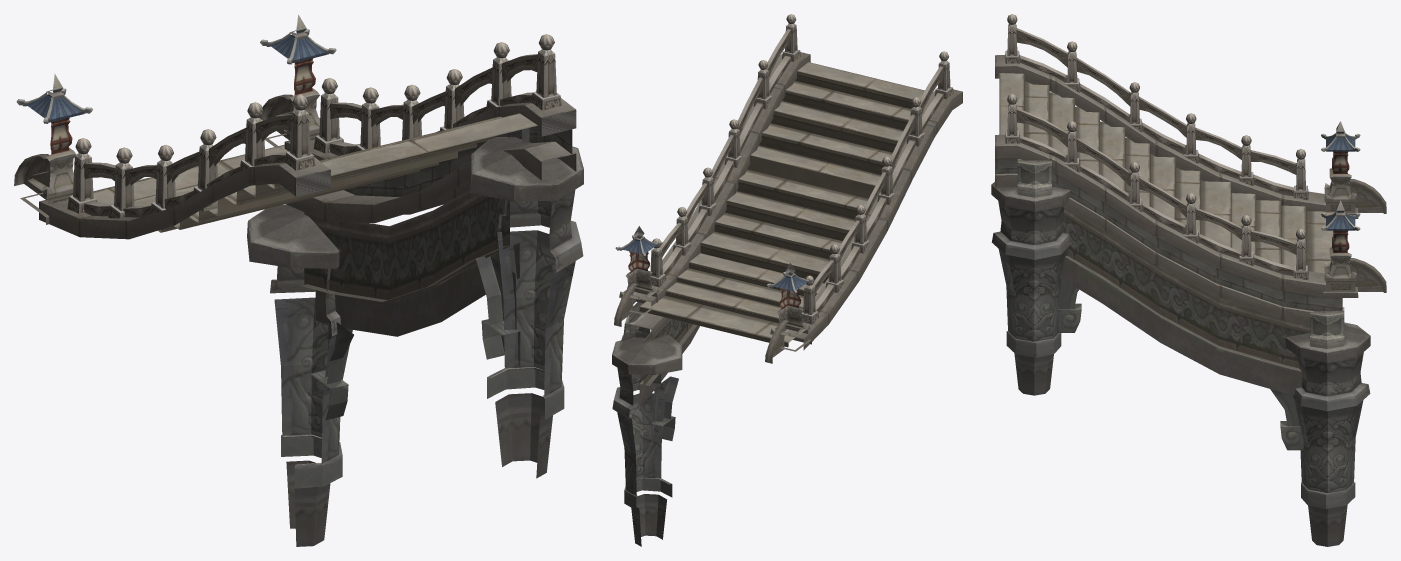
Rendered from cj_luoyang_qiao05_55_46_0700out.fbx.
3 renders of one model, left to right at view 1: azimuth 30°, elevation 25°; view 2: azimuth 150°, elevation 25°; view 3: azimuth 270°, elevation 25°, orthographic. The views are drawn at different scales.
Parts seen in each view (by area): view 1: 0001_cj_luoyang_qiao05, 0002_cj_luoyang_qiao05, 0000_cj_luoyang_qiao05; view 2: 0000_cj_luoyang_qiao05, 0001_cj_luoyang_qiao05, 0002_cj_luoyang_qiao05; view 3: 0001_cj_luoyang_qiao05, 0002_cj_luoyang_qiao05, 0000_cj_luoyang_qiao05.
Boxes of the visible parts, x1,y1,x2,y2 form: 0001_cj_luoyang_qiao05: (14, 14, 583, 546); 0002_cj_luoyang_qiao05: (67, 34, 561, 222); 0000_cj_luoyang_qiao05: (93, 113, 537, 232); 0000_cj_luoyang_qiao05: (639, 62, 924, 347); 0001_cj_luoyang_qiao05: (612, 52, 962, 546); 0002_cj_luoyang_qiao05: (650, 14, 953, 324); 0001_cj_luoyang_qiao05: (991, 55, 1386, 546); 0002_cj_luoyang_qiao05: (1004, 14, 1308, 280); 0000_cj_luoyang_qiao05: (999, 73, 1334, 273).
Bounding box in the file's own units: 8.09 × 16.38 × 13.07.
